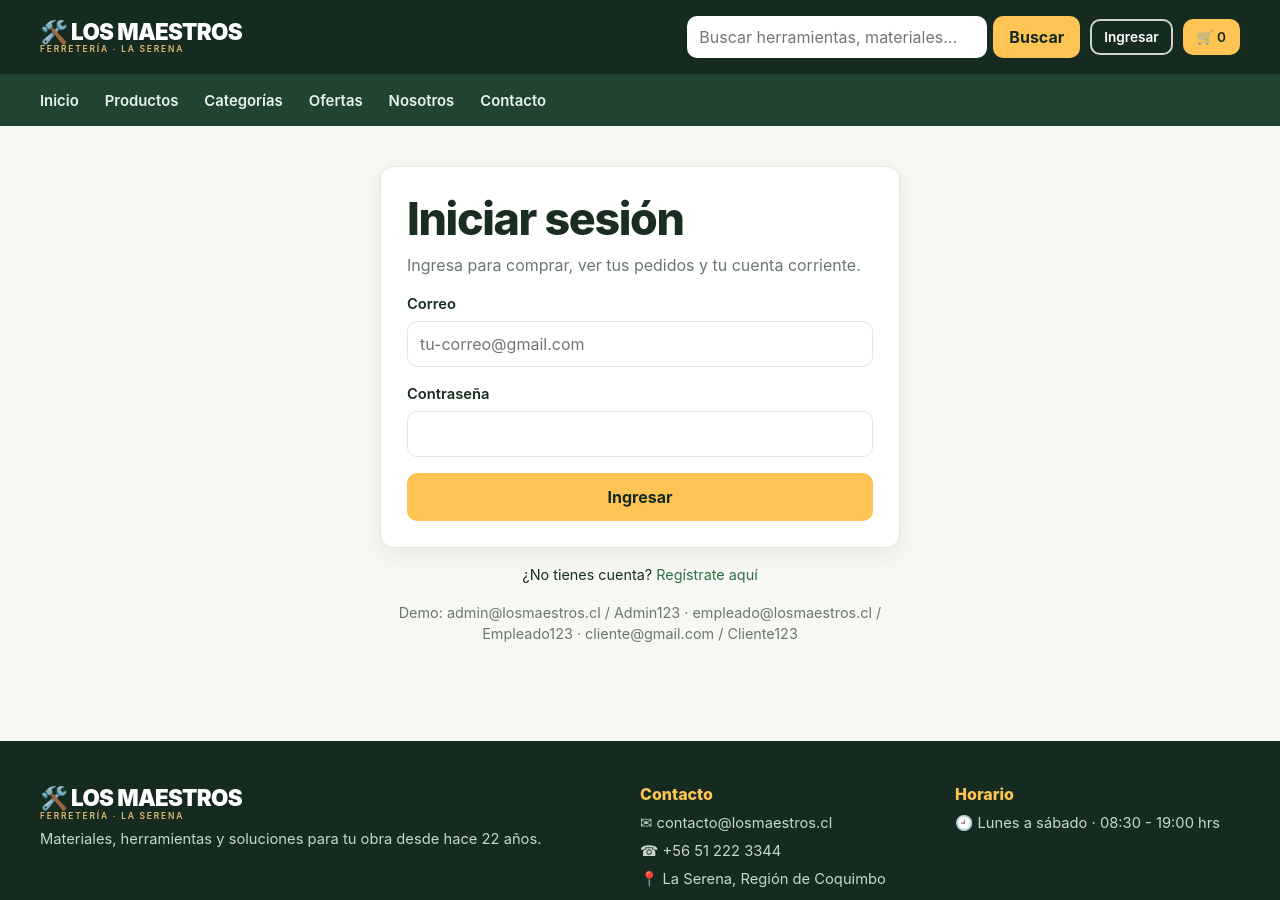
Test case: Navegación y roles › P19 el administrador inicia sesión y llega al panel; el empleado no ve Usuarios ni Reportes
The width and height of the screenshot is (1280, 900).
In the field labelled "Correo": [640, 344] box [407, 321, 873, 367], type "admin@losmaestros.cl"
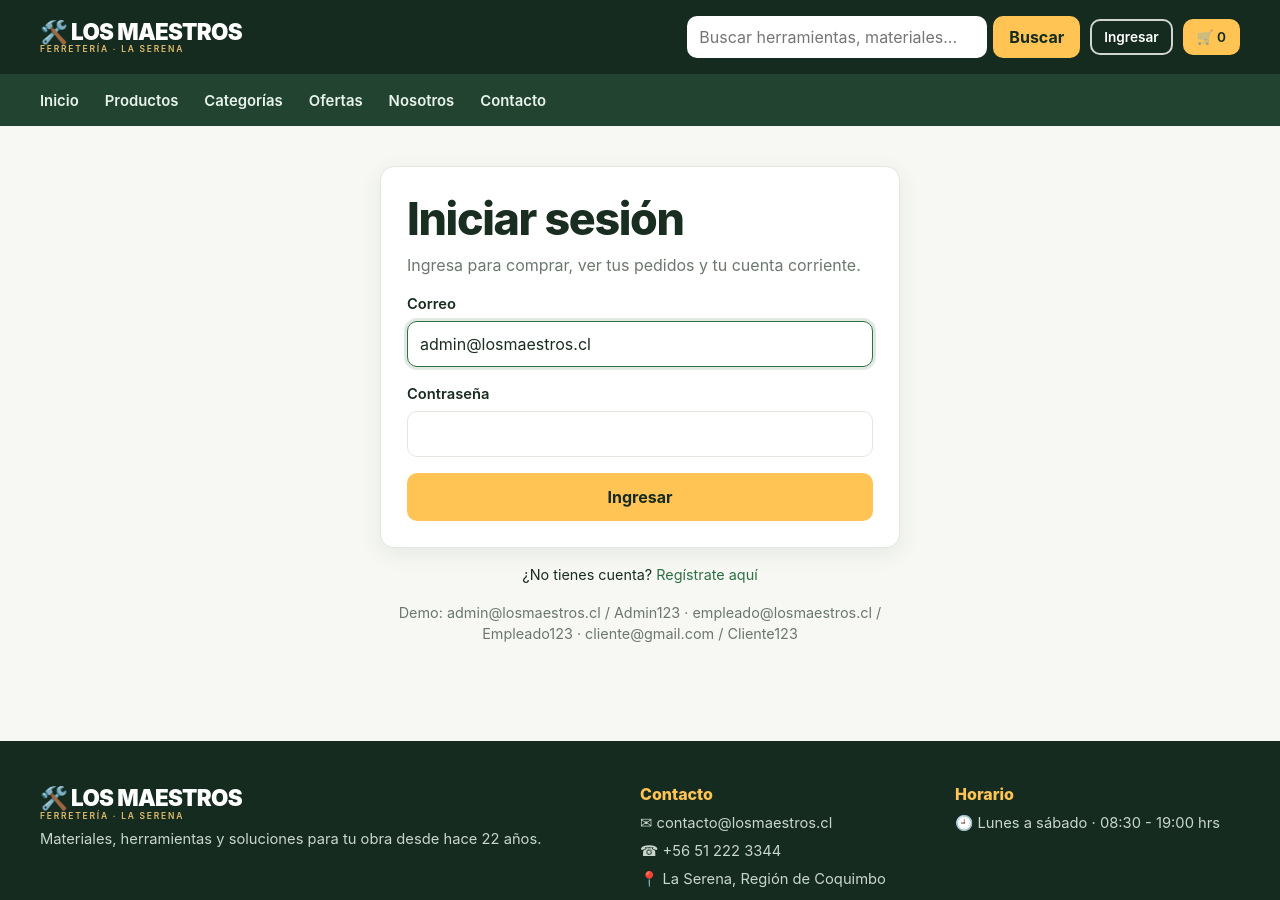
In the password field labelled "Contraseña": [640, 434] box [407, 411, 873, 457], type "Admin123"
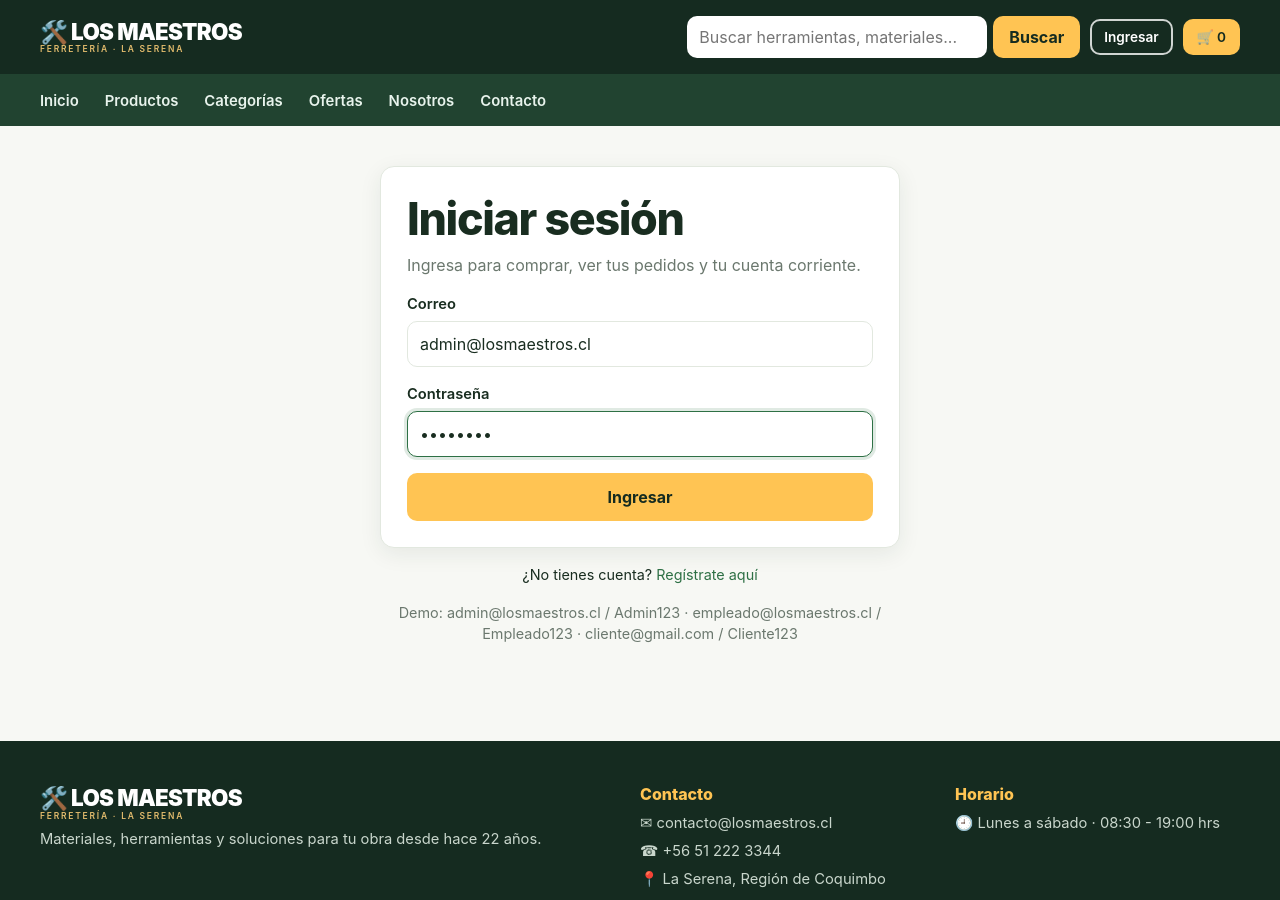
Click the button "Ingresar": [640, 497] box [407, 473, 873, 521]
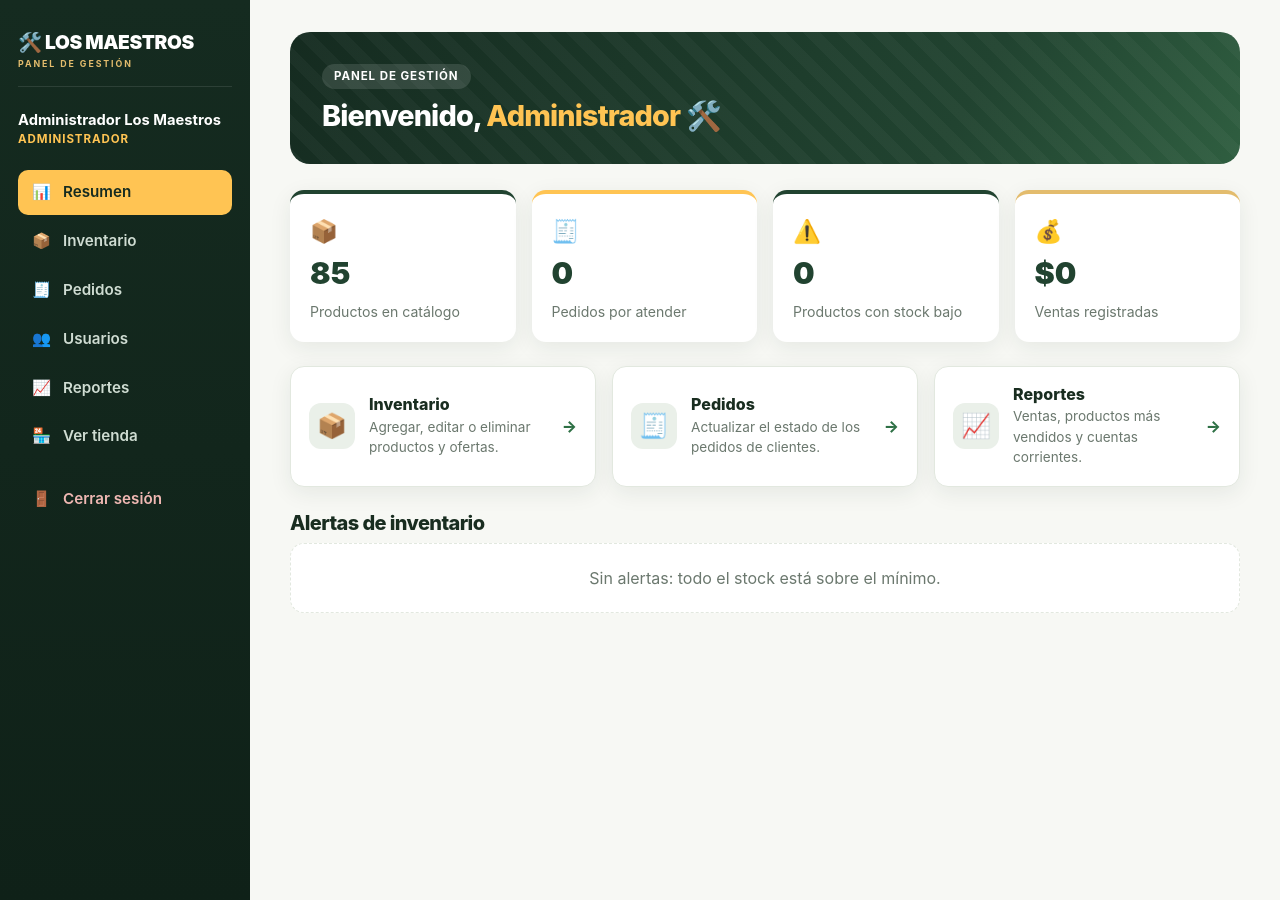
Result: the heading "Bienvenido, Administrador 🛠️" is shown at [322, 98, 721, 133]
Result: the link "👥 Usuarios" is shown at [32, 329, 128, 348]
